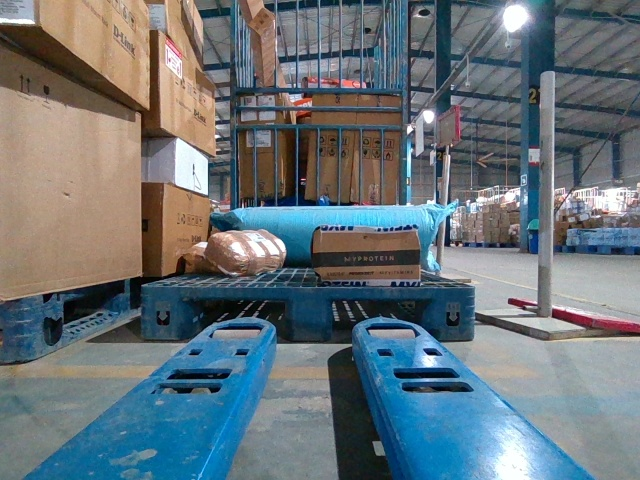block: (140, 282, 198, 341), (288, 288, 334, 341), (435, 288, 474, 341)
front: (143, 285, 475, 339)
hole pallet: (189, 301, 291, 345), (332, 299, 432, 339)
